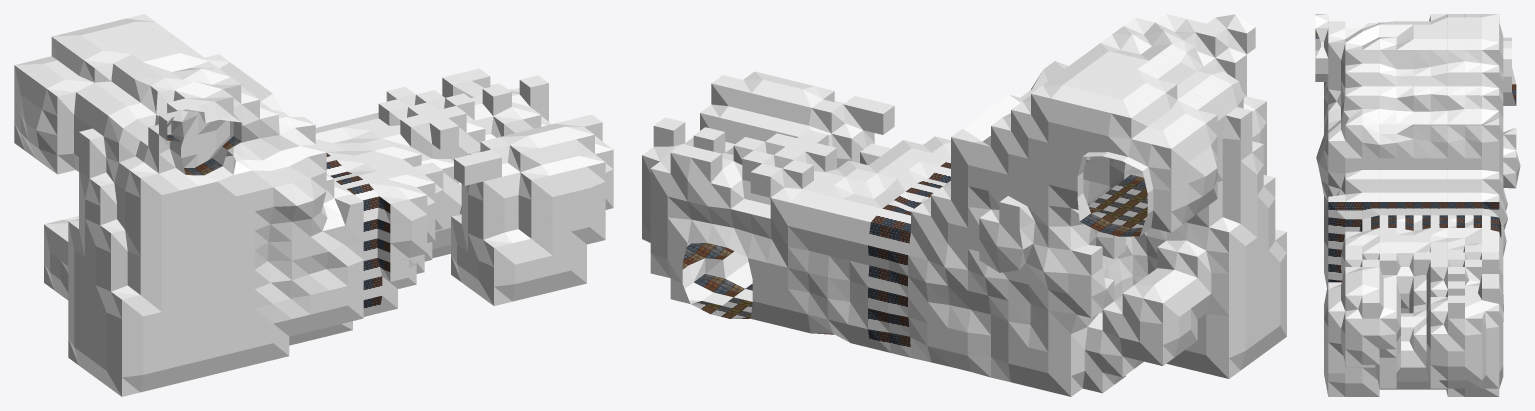
3 views of the same model, side by side, from view 1: azimuth 30°, elevation 25°; view 2: azimuth 150°, elevation 25°; view 3: azimuth 270°, elevation 25° (orthographic). The views are drawn at different scales.
Visible parts, largest first — view 1: SecondInstance; view 2: SecondInstance; view 3: SecondInstance.
Part boxes in pixels (<box>): SecondInstance: <box>14,14,613,396</box>; SecondInstance: <box>642,14,1286,396</box>; SecondInstance: <box>1315,14,1520,396</box>.
Size of the model in its own units: 27.81 by 14.63 by 12.
Materials: 1 (1 with a texture image).
